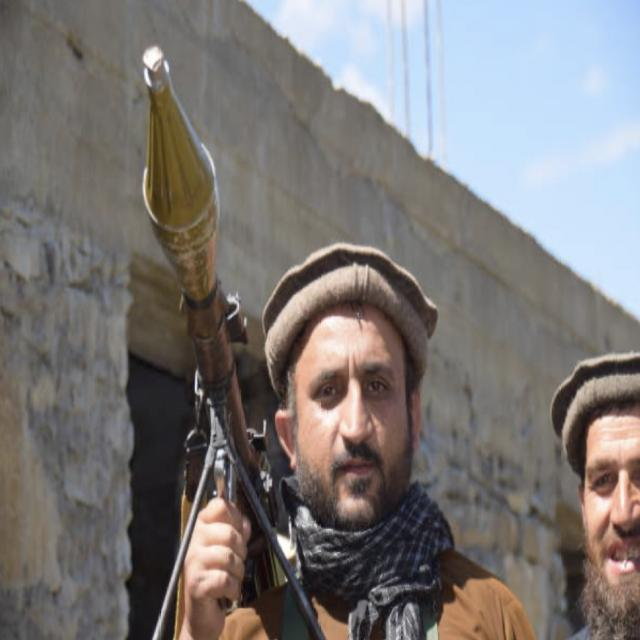bazooka: (129, 26, 340, 640)
